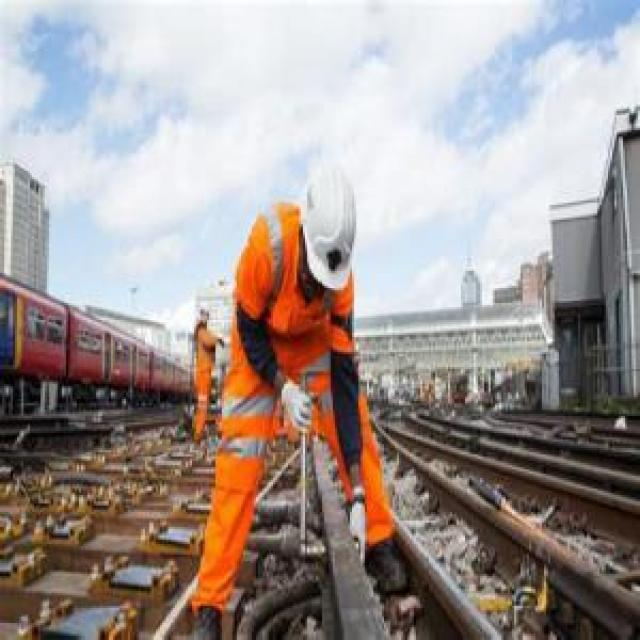danger: (192, 164, 410, 638), (189, 302, 225, 445)
rail: (369, 400, 635, 638)
